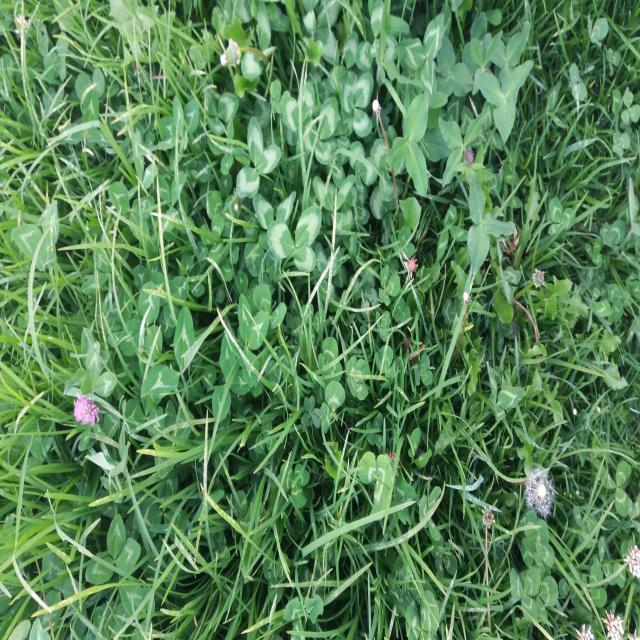Four Leaf Clover: (345, 356, 368, 400)
